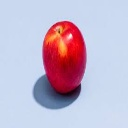apple: (41, 20, 88, 97)
